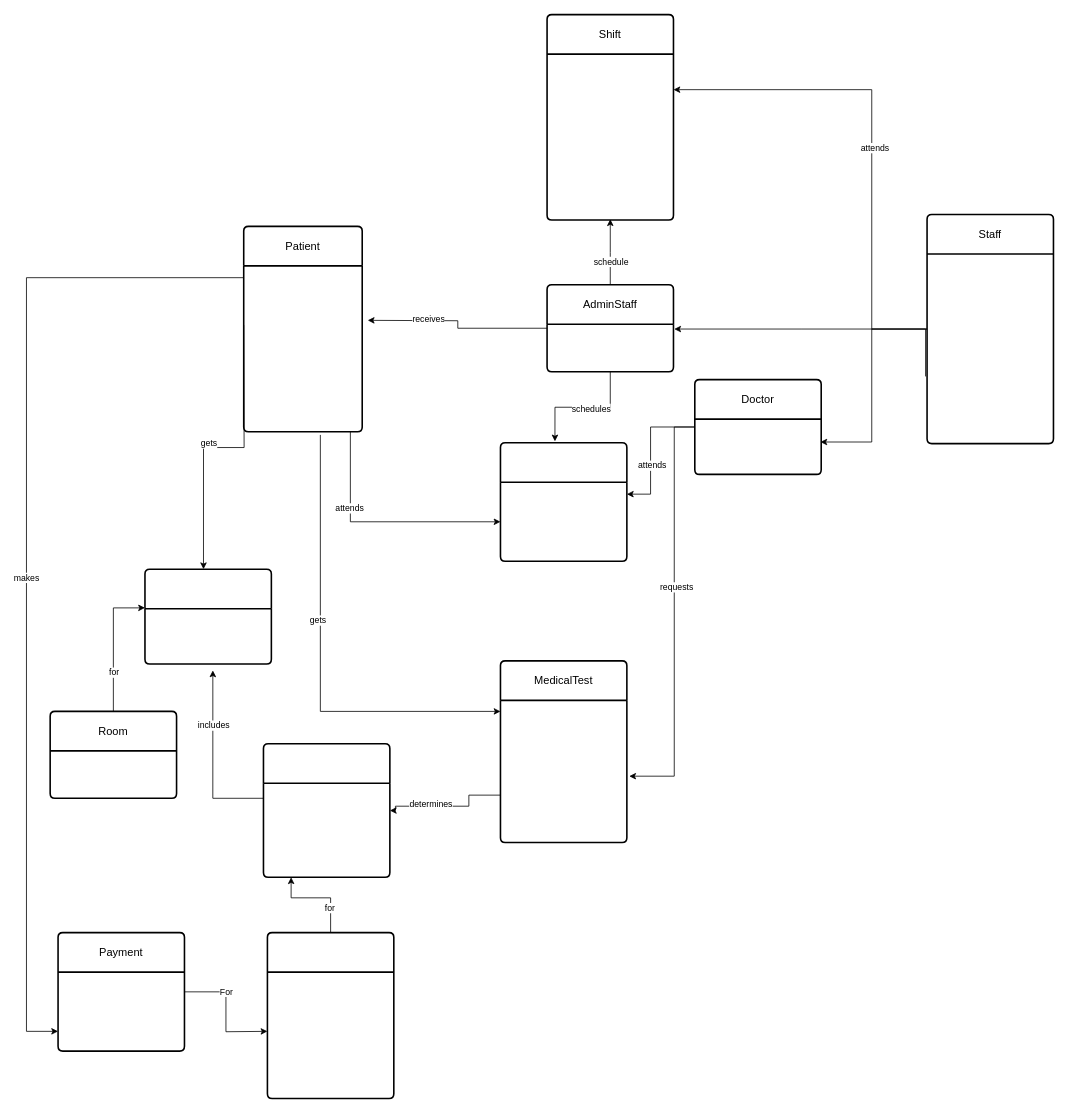
This 1068x1112 diagram has some shape labels left out. Here are the shapes that lost their labels. From the top down, the box of each, then its label:
(499, 442, 627, 562): Appointment
(144, 568, 272, 664): Admission
(262, 743, 390, 878): Treatment
(266, 931, 394, 1099): Invoice
